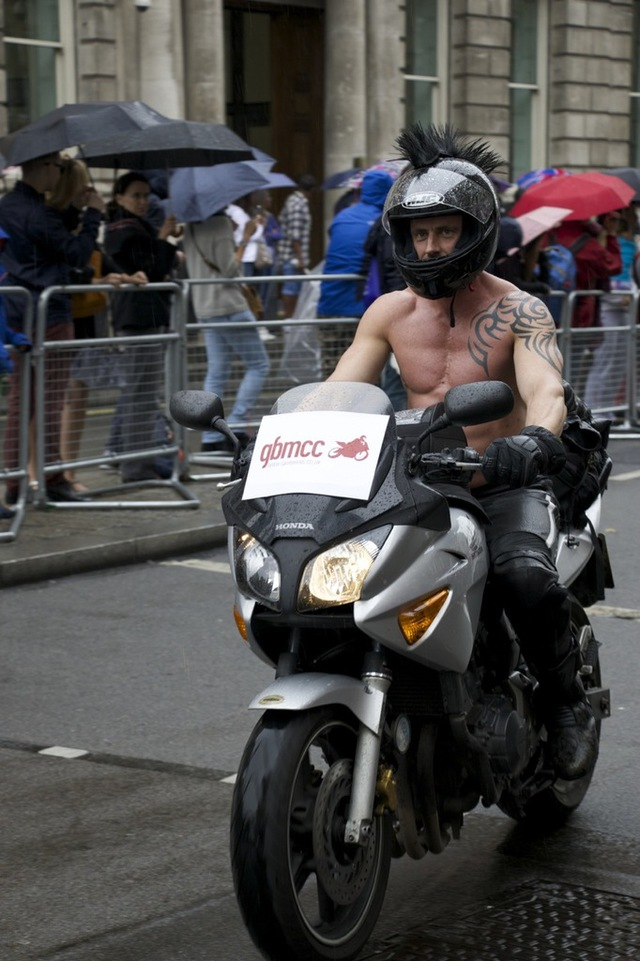helmet: (375, 166, 509, 282)
